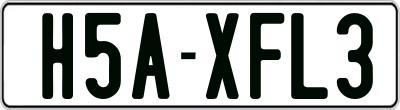3: (337, 12, 374, 98)
5: (83, 13, 120, 99)
A: (132, 13, 174, 104)
F: (250, 11, 288, 103)
H: (41, 13, 75, 105)
L: (289, 12, 329, 104)
X: (204, 10, 240, 102)
